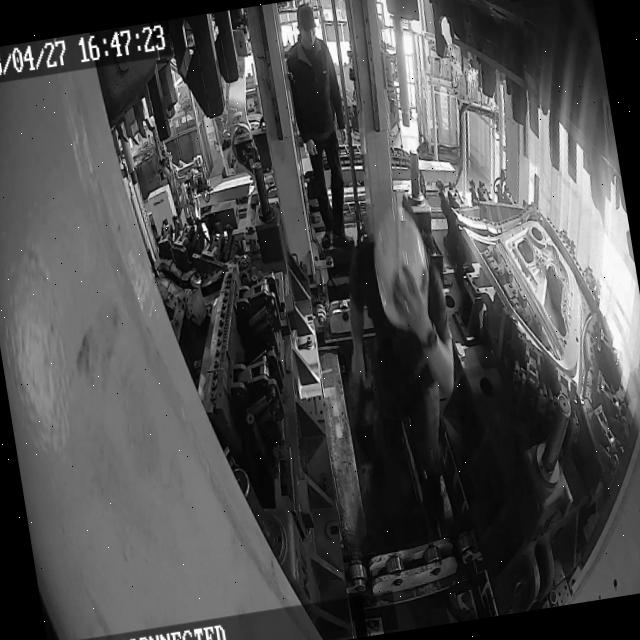Person: (326, 202, 484, 548), (278, 0, 364, 252)
